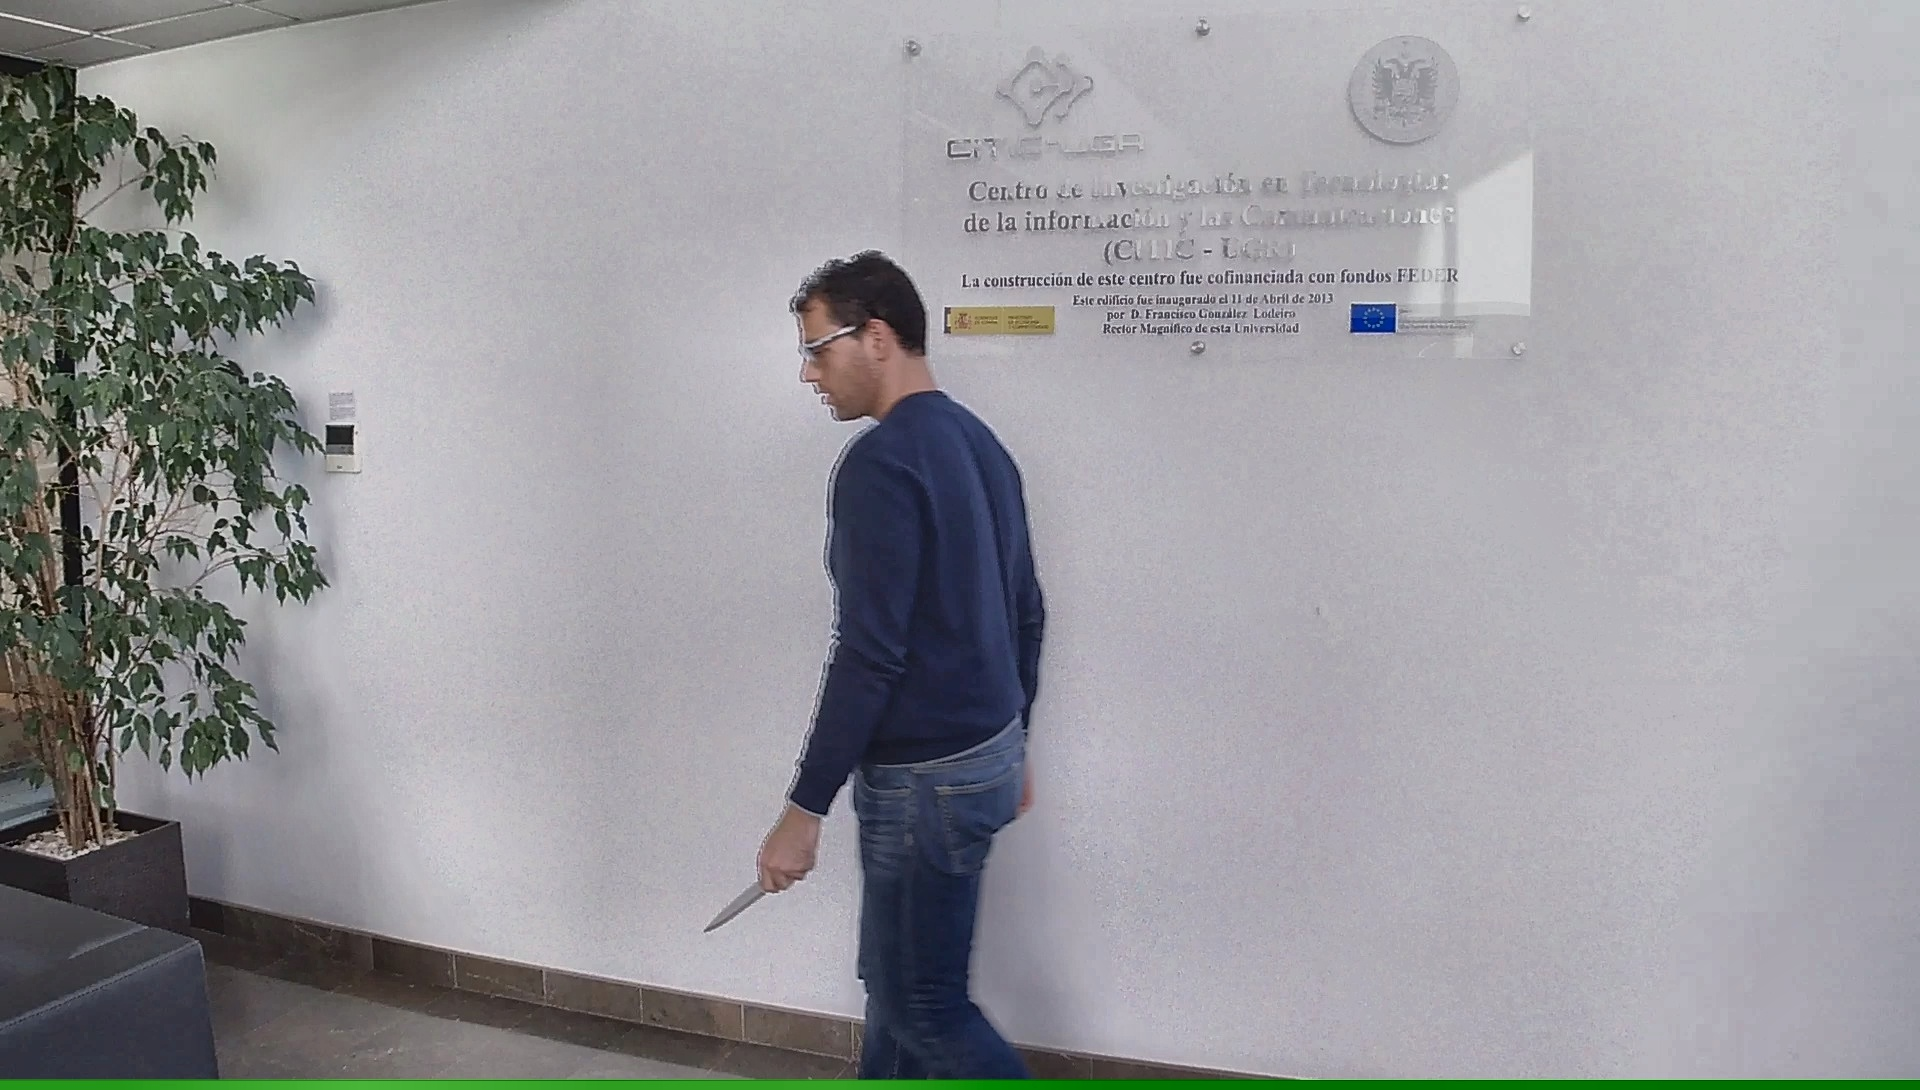knife: (694, 853, 806, 942)
